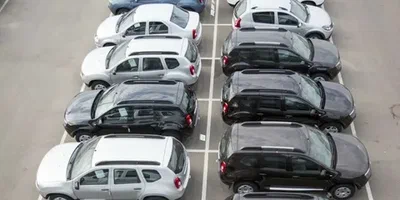Car: (219, 121, 371, 200), (35, 134, 191, 200), (63, 80, 198, 142), (221, 70, 356, 132), (80, 35, 201, 90), (221, 27, 341, 81), (94, 3, 202, 47), (232, 0, 334, 40), (108, 0, 206, 15), (224, 191, 334, 200)
